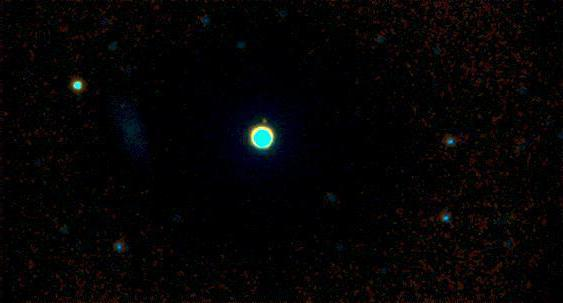star: (251, 105, 281, 135)
